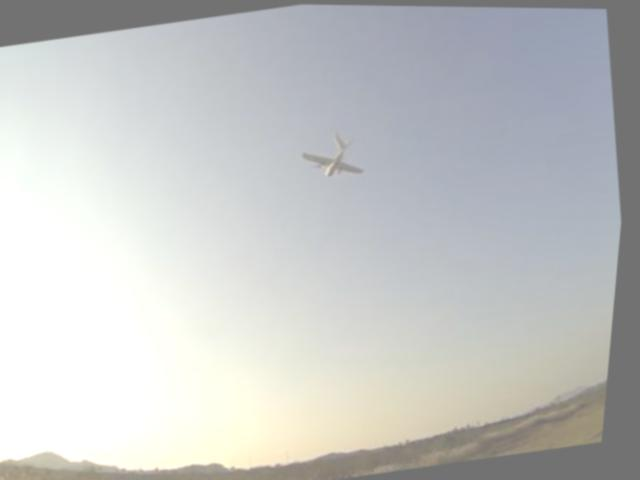uav: (293, 119, 377, 196)
